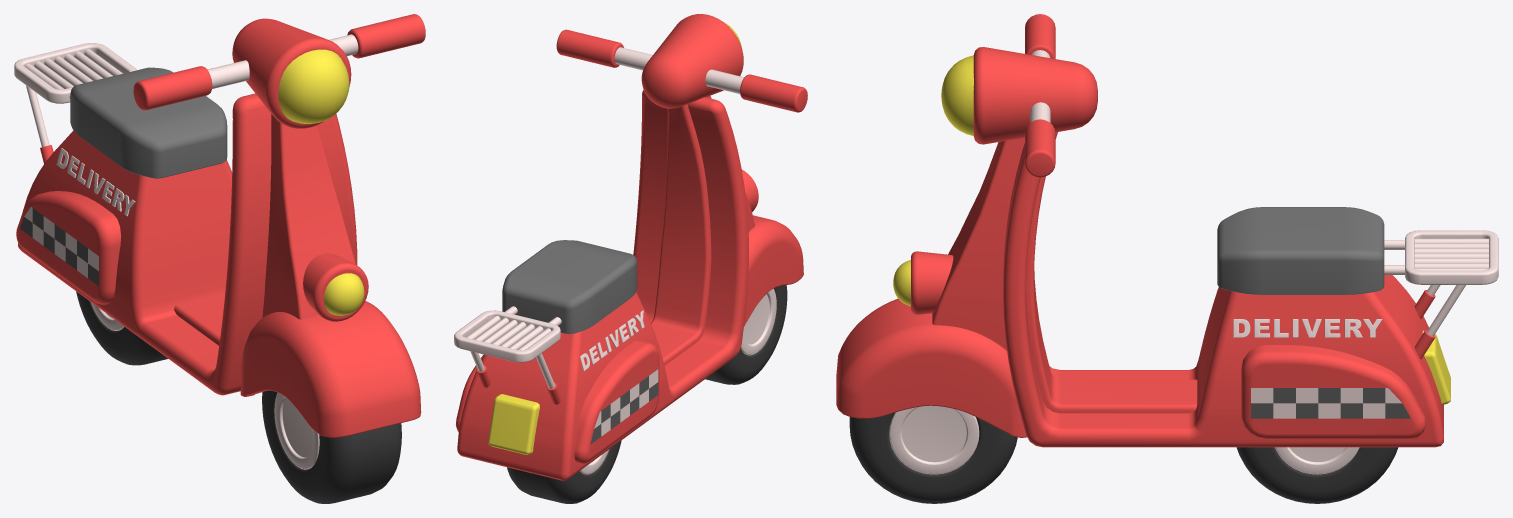
The model's file is City_14_Scooter_Delivery_1.glb.
3 renders of one model, left to right at view 1: azimuth 30°, elevation 25°; view 2: azimuth 150°, elevation 25°; view 3: azimuth 270°, elevation 25°, orthographic. The views are drawn at different scales.
Parts seen in each view (by area): view 1: City_14_Scooter_Delivery_1; view 2: City_14_Scooter_Delivery_1; view 3: City_14_Scooter_Delivery_1.
Boxes of the visible parts, box(x1,y1,x2,y2) form: City_14_Scooter_Delivery_1: box(14, 14, 425, 503); City_14_Scooter_Delivery_1: box(454, 14, 807, 503); City_14_Scooter_Delivery_1: box(836, 14, 1498, 503).
Size of the model in its own units: 0.7828 by 1.17 by 1.59.
Materials: 1 (1 with a texture image).
